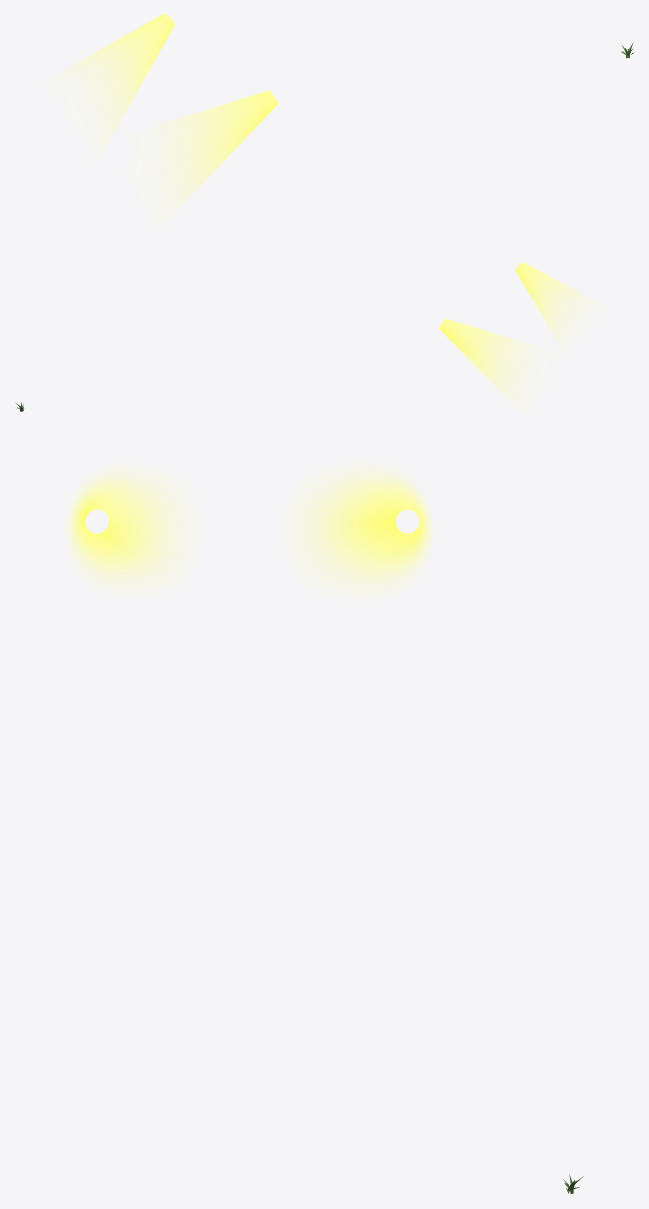
Rendered from traversant1.gltf.
3 views of the same model, one above another, from view 1: azimuth 30°, elevation 25°; view 2: azimuth 150°, elevation 25°; view 3: azimuth 270°, elevation 25° (orthographic). The views are drawn at different scales.
Visible parts, largest first — view 1: LightPano1, LightPano2; view 2: LightPano2, LightPano1; view 3: LightPano2, LightPano1.
Boxes of the visible parts, <box> form: LightPano1: <box>165,90,277,195</box>; LightPano2: <box>66,14,174,128</box>; LightPano2: <box>439,318,529,392</box>; LightPano1: <box>515,262,591,336</box>; LightPano2: <box>308,472,430,583</box>; LightPano1: <box>69,474,176,580</box>.
Bounding box in the file's own units: 53.08 × 15.81 × 23.97.
2 materials, 1 textured.
